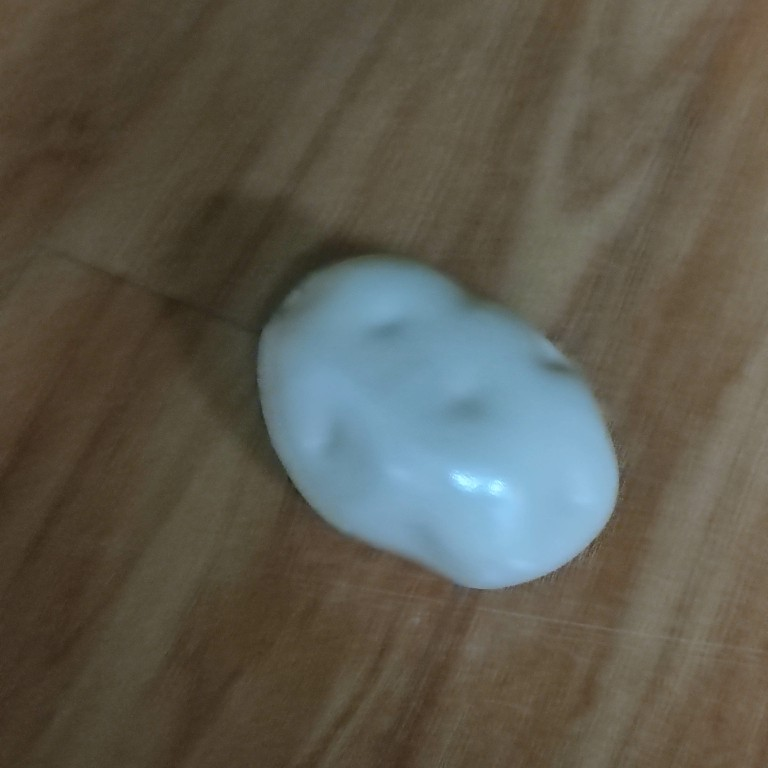fruit_potato: (249, 247, 624, 596)
